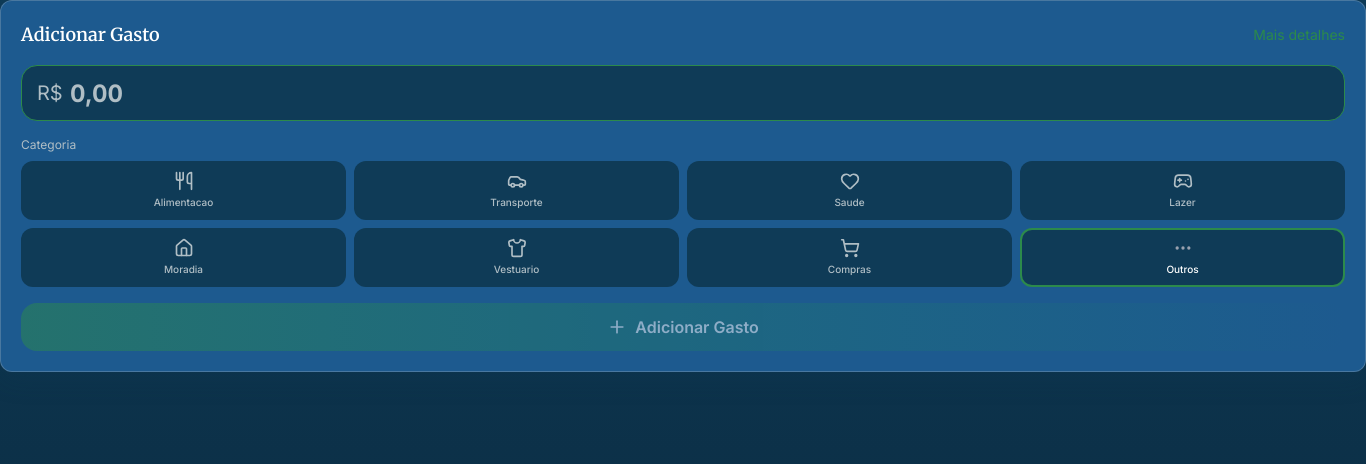
Test case: logging an expense takes one number › should reject zero instead of sending it
The width and height of the screenshot is (1366, 464).
Type "0" into the field with placeholder "0,00" at (683, 93), box [21,65,1345,121]
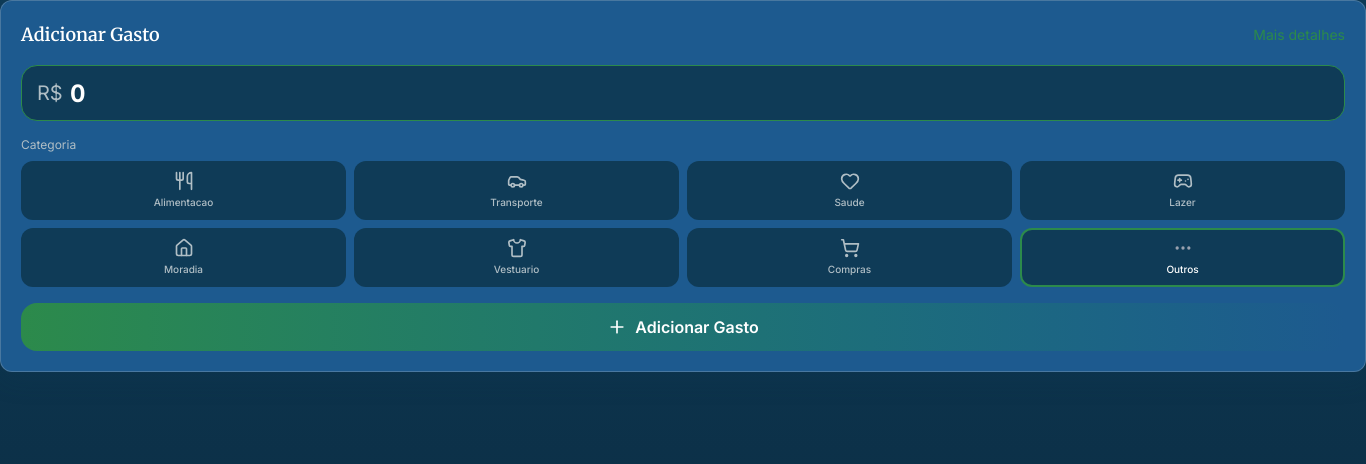
Click the button "Adicionar Gasto" at (683, 327), box [21,303,1345,351]
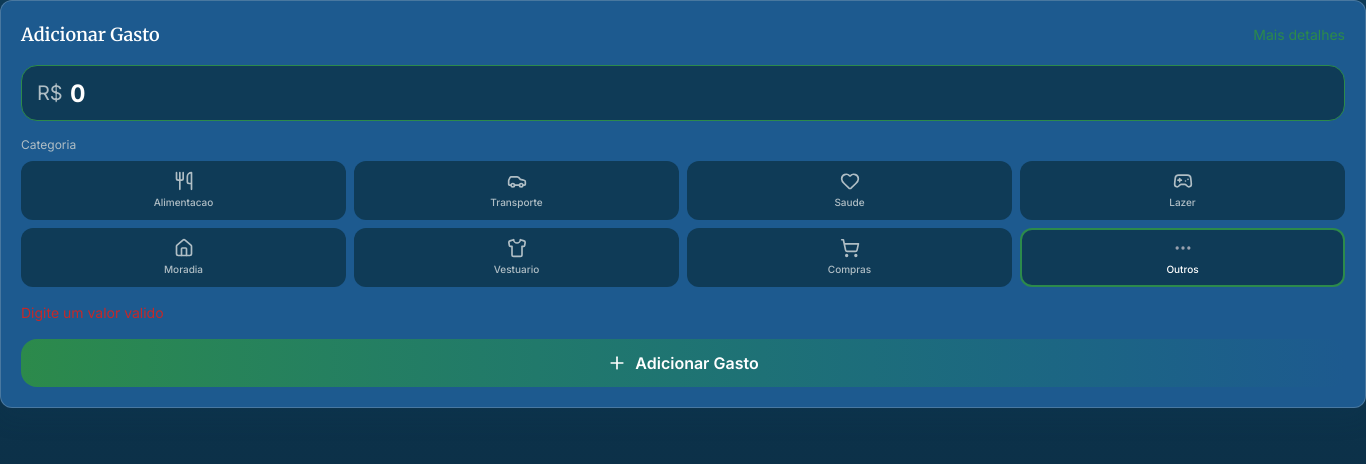
Now the text "Digite um valor valido" is shown, box [21,304,164,321]
